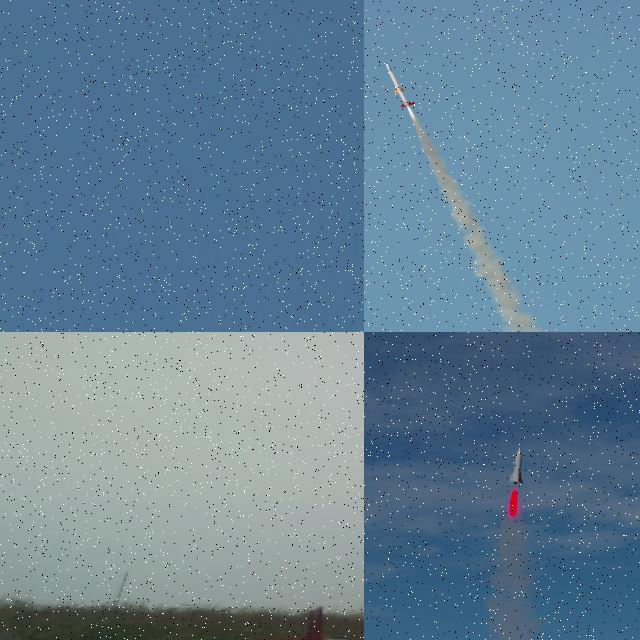Rocket: (385, 63, 416, 109), (508, 447, 524, 485)
